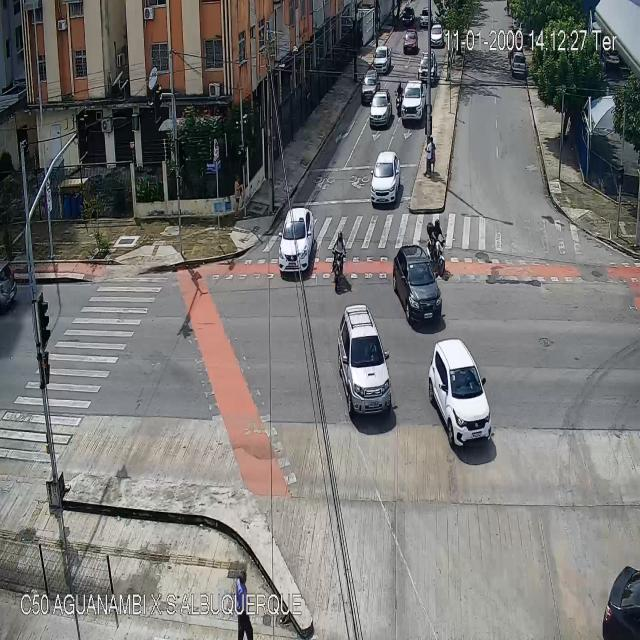Car: (431, 341, 494, 447), (337, 308, 392, 420), (598, 525, 640, 640), (0, 239, 27, 316), (370, 152, 401, 207), (400, 80, 424, 126), (370, 90, 392, 126), (420, 52, 437, 88), (361, 70, 378, 104), (372, 46, 390, 74), (403, 31, 420, 54), (430, 24, 445, 46), (401, 7, 416, 29), (511, 52, 525, 74), (419, 8, 432, 30)
Motorcycle: (427, 222, 448, 280), (333, 231, 345, 294), (394, 83, 403, 118)
